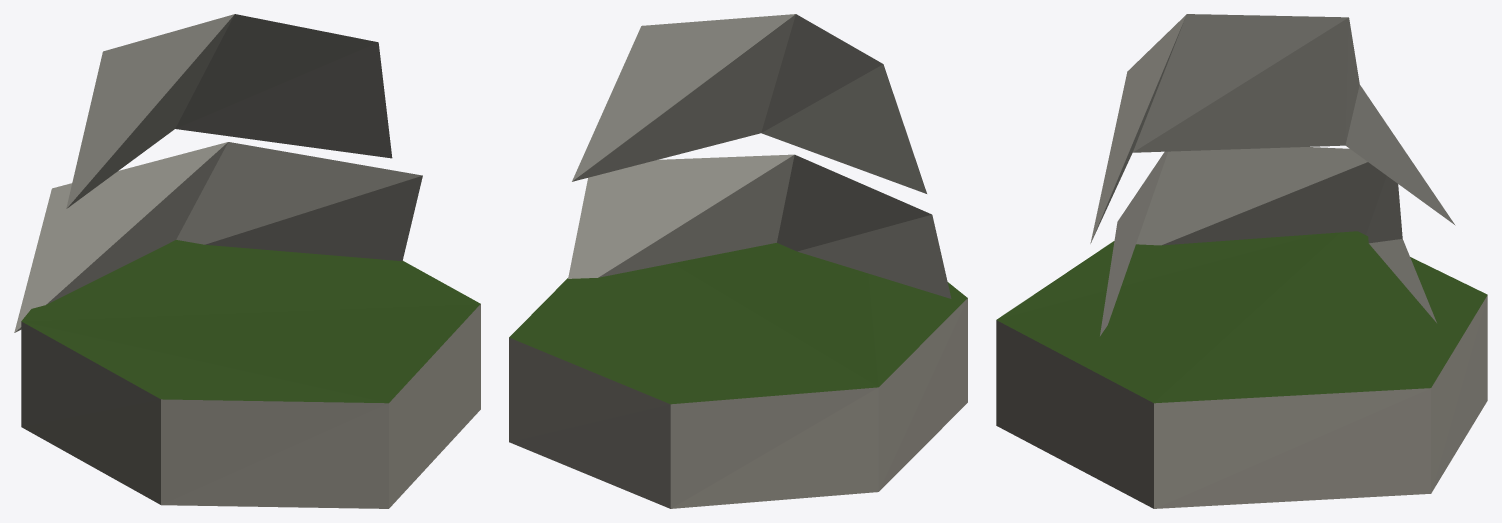
File: rock.stub__buried__summer.glb
3 views of the same model, side by side, from view 1: azimuth 30°, elevation 25°; view 2: azimuth 150°, elevation 25°; view 3: azimuth 270°, elevation 25° (orthographic).
Visible parts, largest first — view 1: rock.stub; view 2: rock.stub; view 3: rock.stub.
Part boxes in pixels (x1,y1,x2,y2): rock.stub: [14, 14, 480, 508]; rock.stub: [509, 14, 967, 508]; rock.stub: [996, 14, 1487, 508].
Bounding box in the file's own units: 1.13 × 1.05 × 1.32.
